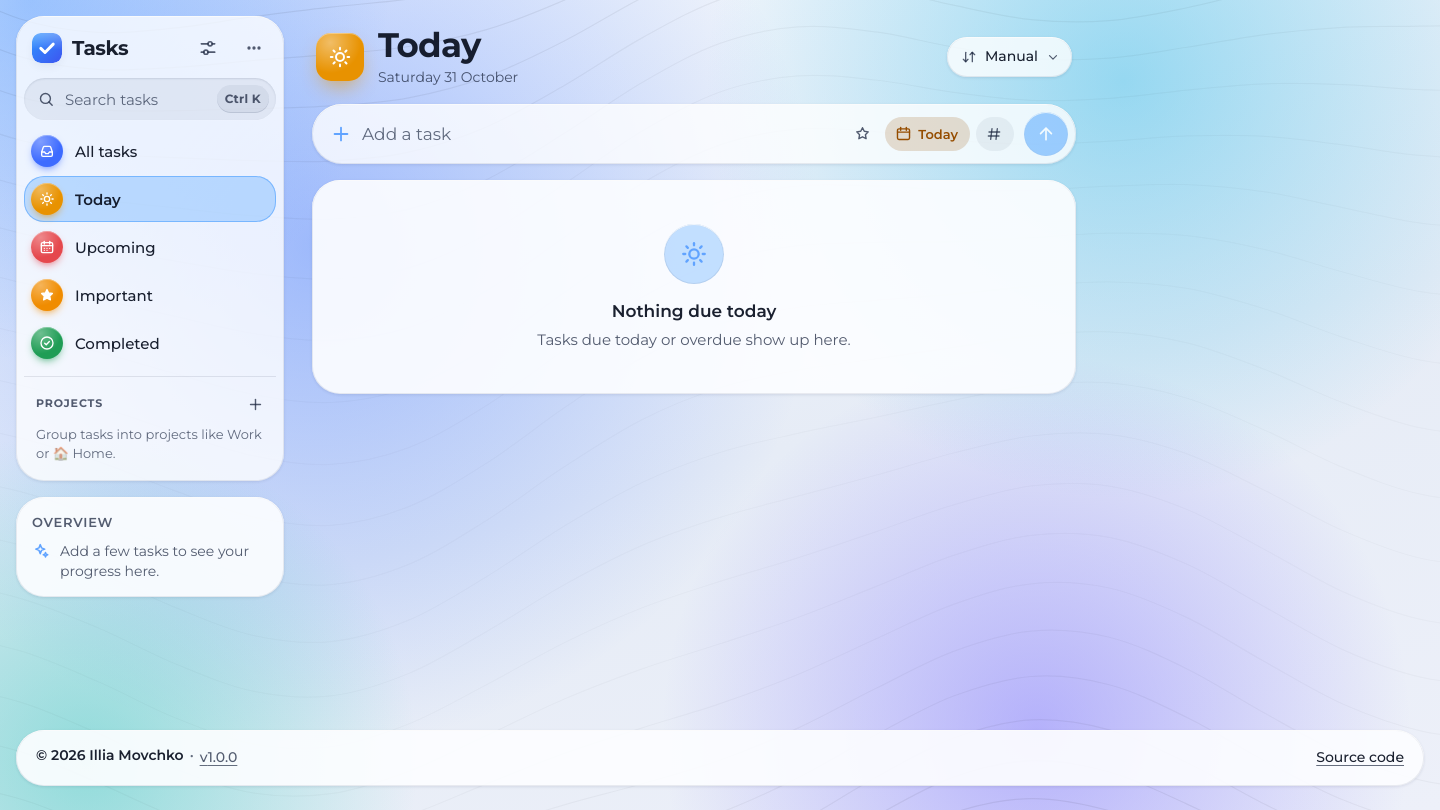
Test: Planning › stays in the current list and offers to show a task added elsewhere
Type "Call mom in 3 days" into the field named "New task" at (599, 134), box [362,112,835,156]
Then press Enter
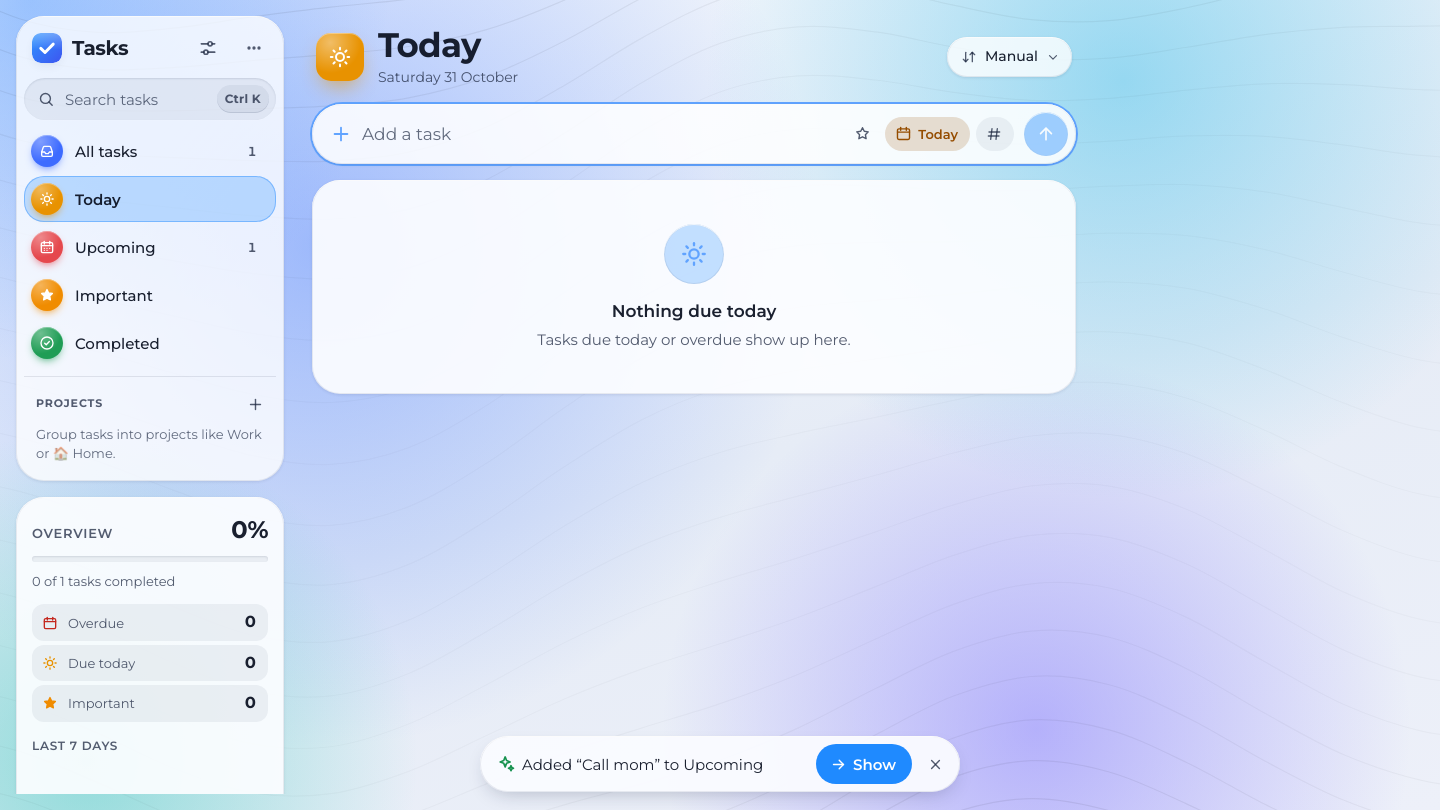
Expected: the heading "Today" is shown, [378,24,480,66]
Click the button "Show" at (864, 764), box [816,744,912,784]
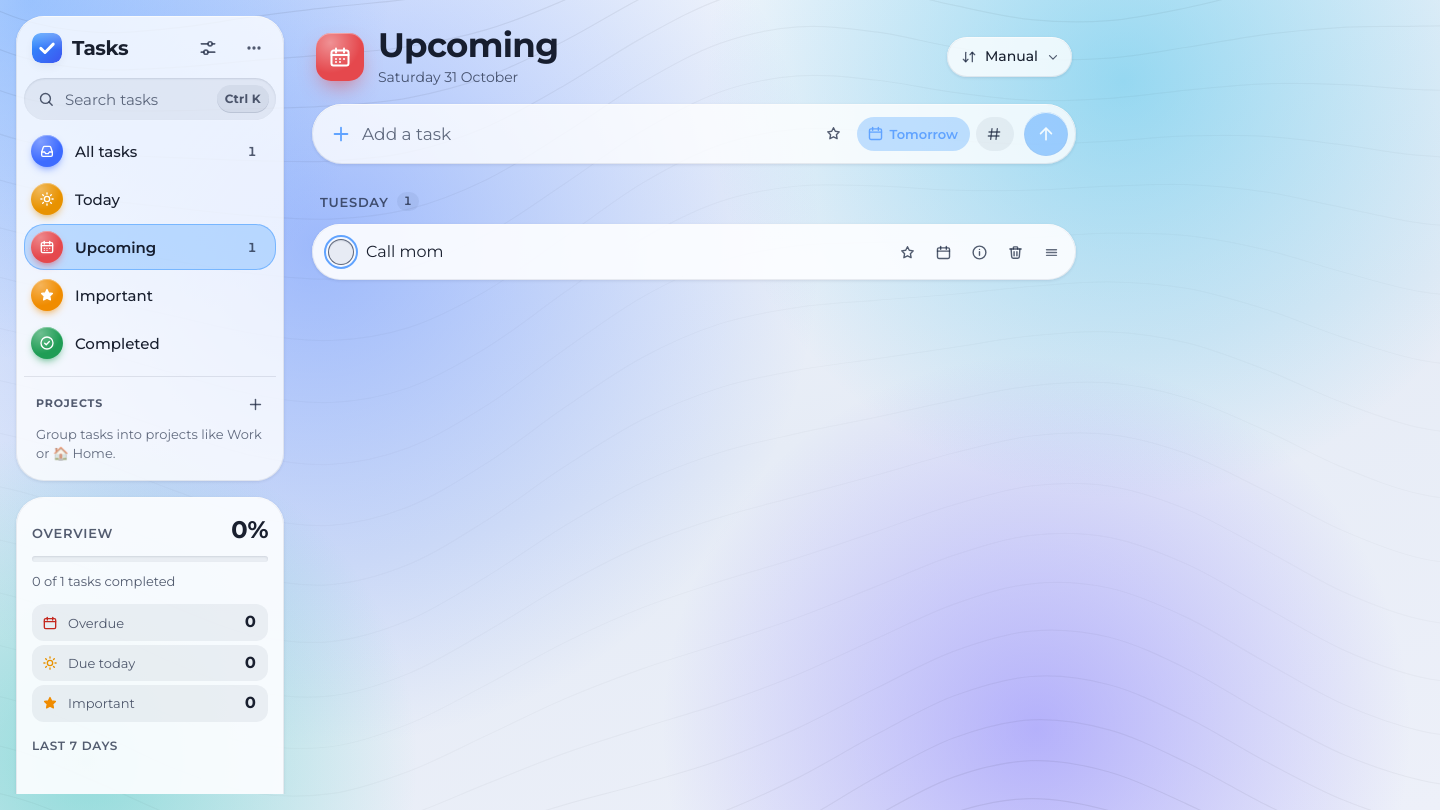
Expected: the heading "Upcoming" is shown, [378,24,558,66]
